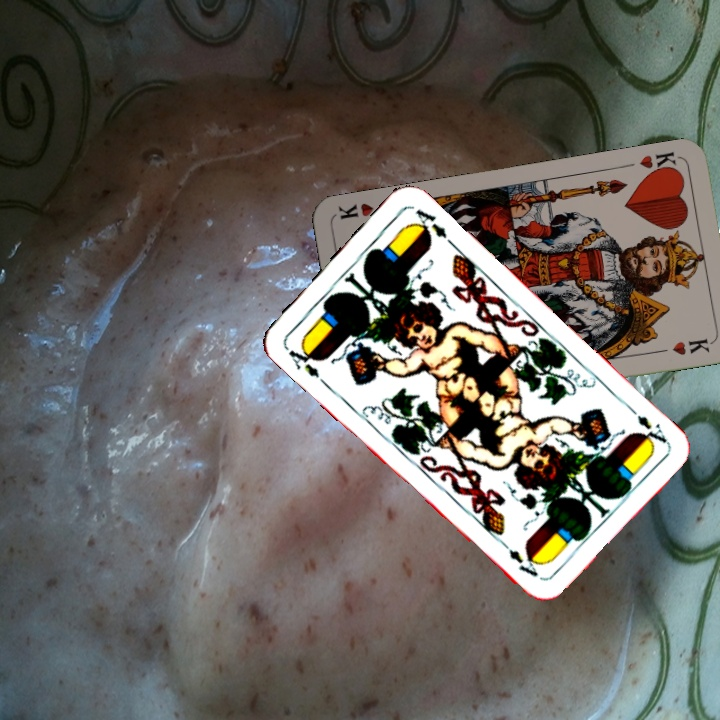EA: (623, 401, 670, 449), (281, 339, 323, 381)
HK: (636, 148, 681, 179)
